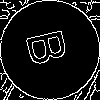B: (25, 25, 78, 68)
